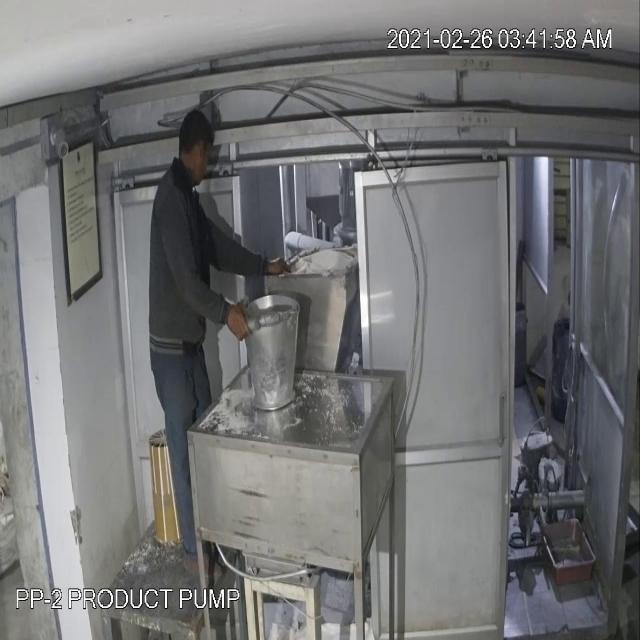no-helmet: (178, 103, 216, 198)
